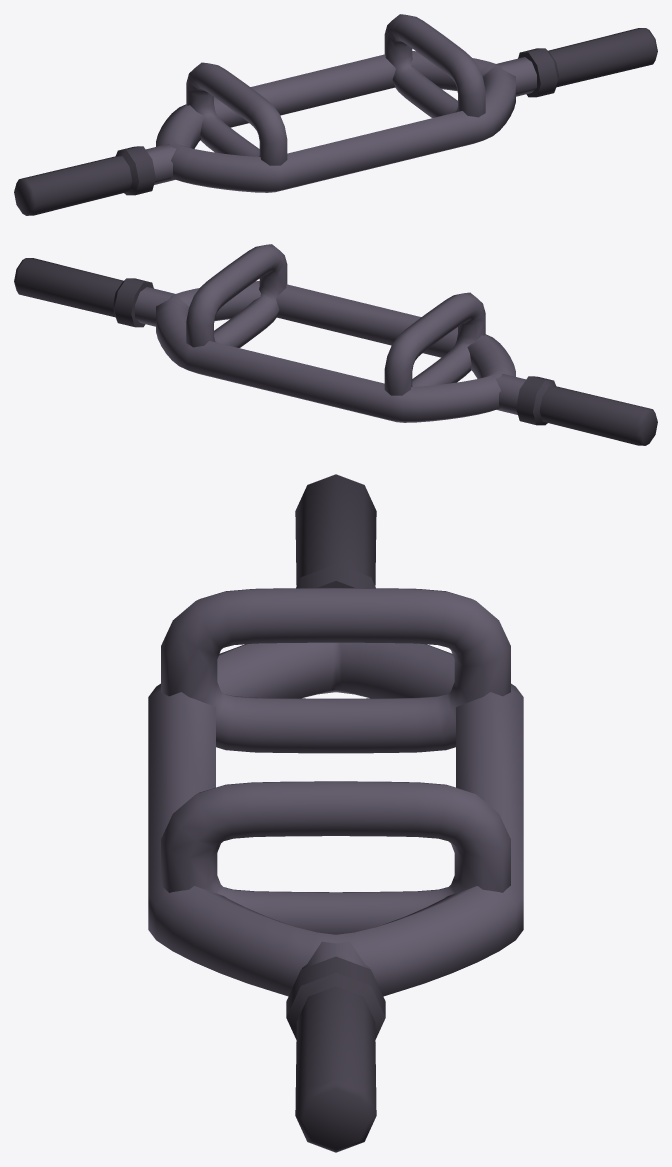
File: Barbell_v03.fbx
3 views of the same model, one above another, from view 1: azimuth 30°, elevation 25°; view 2: azimuth 150°, elevation 25°; view 3: azimuth 270°, elevation 25° (orthographic). The views are drawn at different scales.
Parts seen in each view (by area): view 1: Barbell_v03; view 2: Barbell_v03; view 3: Barbell_v03.
Part boxes in pixels (bbox=[...]): Barbell_v03: bbox=[14, 14, 657, 215]; Barbell_v03: bbox=[14, 244, 657, 445]; Barbell_v03: bbox=[148, 474, 523, 1152].
Size of the model in its own units: 1.5 by 0.1975 by 0.3881.
Materials: 1 (1 with a texture image).
